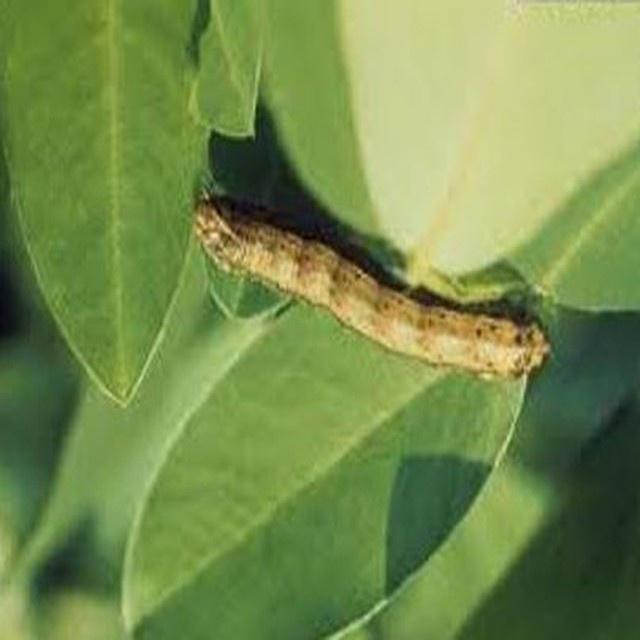gusano_cogollero: (200, 200, 547, 377)
